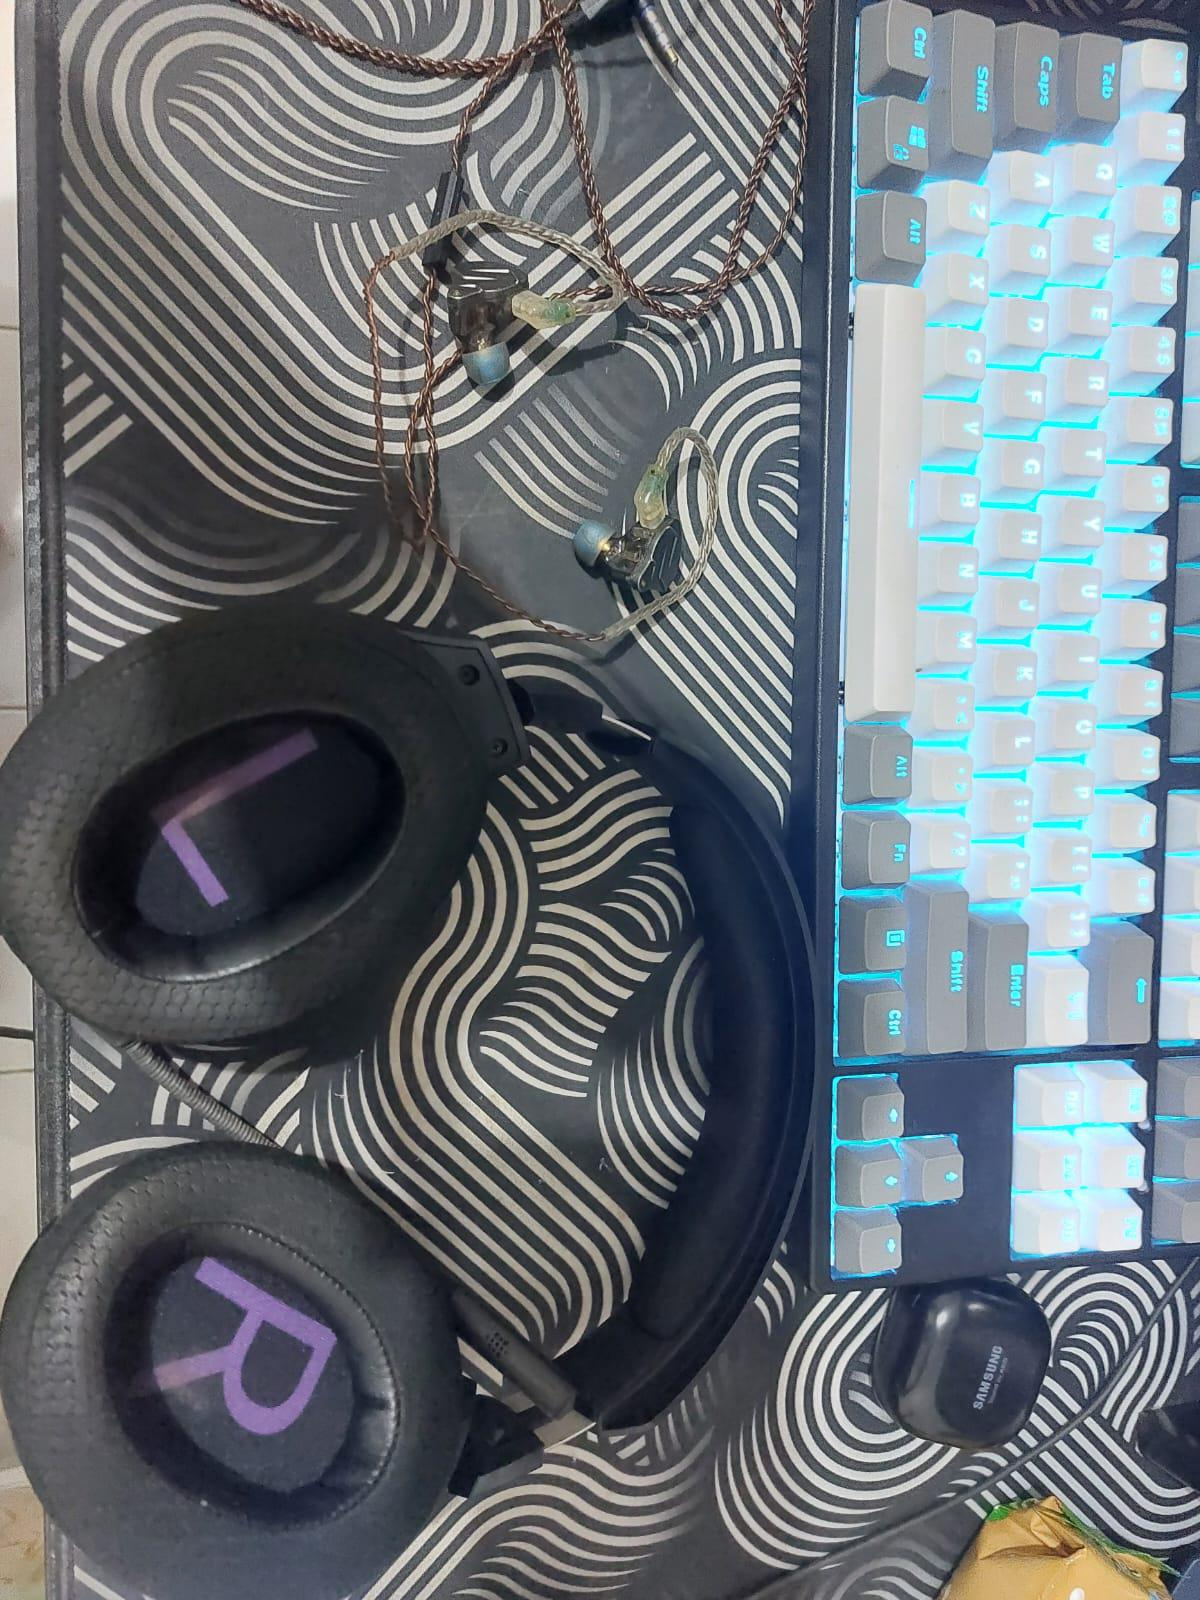Earphone: (566, 452, 703, 597), (434, 267, 586, 394)
Headset: (4, 592, 819, 1587)
